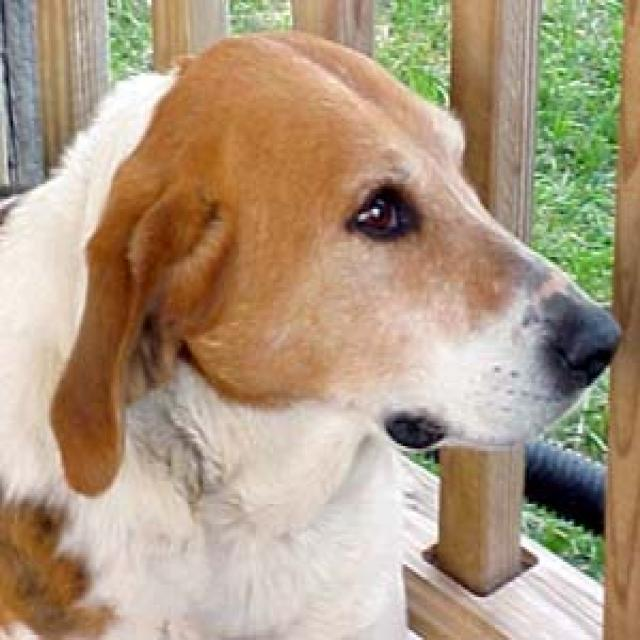dogs: (0, 27, 623, 640)
